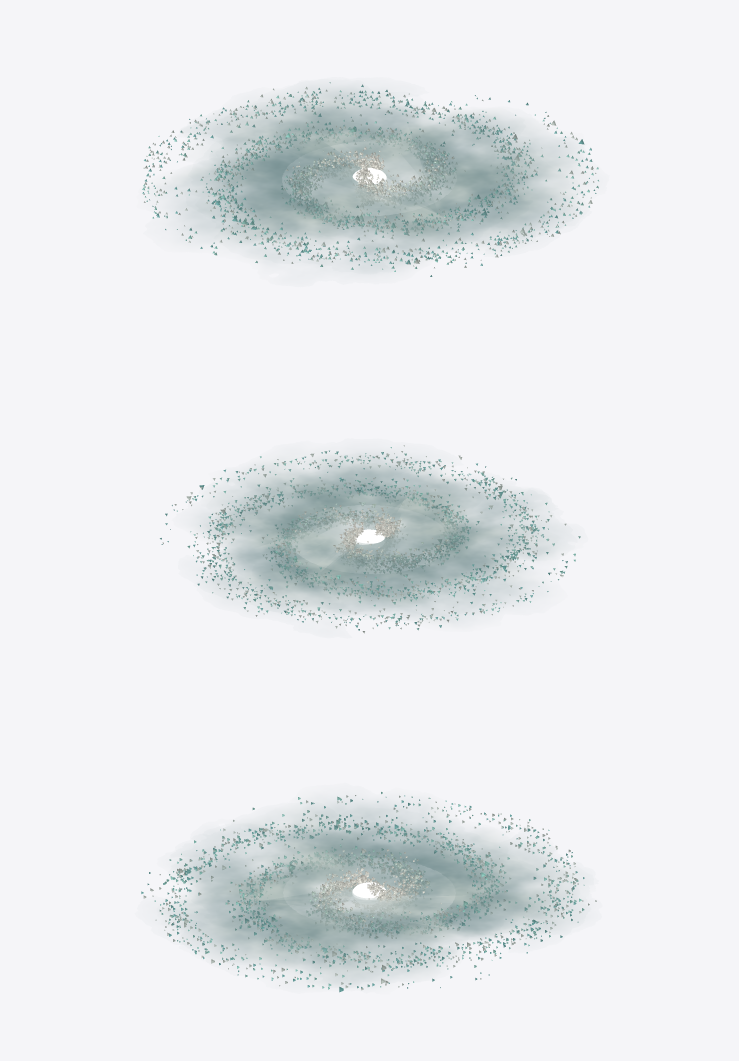
Rendered from galaxy_2024.glb.
3 views of the same model, one above another, from view 1: azimuth 30°, elevation 25°; view 2: azimuth 150°, elevation 25°; view 3: azimuth 270°, elevation 25° (orthographic). The views are drawn at different scales.
Parts seen in each view (by area): view 1: Veil3, Veil4, StarPoints, Veil1, Veil2, Veil0; view 2: Veil4, Veil3, StarPoints, Veil1, Veil2, Veil0; view 3: Veil3, Veil1, StarPoints, Veil4, Veil2, Veil0.
Part boxes in pixels (x1=…): Veil3: x1=219, y1=95, x2=535, y2=246; Veil4: x1=171, y1=103, x2=577, y2=265; StarPoints: x1=142, y1=82, x2=598, y2=276; Veil1: x1=195, y1=118, x2=530, y2=241; Veil2: x1=222, y1=118, x2=521, y2=219; Veil0: x1=320, y1=157, x2=418, y2=199; Veil4: x1=236, y1=456, x2=528, y2=622; Veil3: x1=200, y1=475, x2=539, y2=606; StarPoints: x1=160, y1=445, x2=580, y2=633; Veil1: x1=254, y1=480, x2=520, y2=597; Veil2: x1=239, y1=480, x2=476, y2=603; Veil0: x1=323, y1=516, x2=412, y2=557; Veil3: x1=183, y1=822, x2=559, y2=965; Veil1: x1=197, y1=804, x2=535, y2=982; StarPoints: x1=141, y1=792, x2=596, y2=992; Veil4: x1=178, y1=828, x2=555, y2=961; Veil2: x1=244, y1=856, x2=495, y2=942; Veil0: x1=311, y1=875, x2=425, y2=912.
Size of the model in its own units: 12.93 by 0.9851 by 12.93.
Materials: 7 (5 with a texture image).
